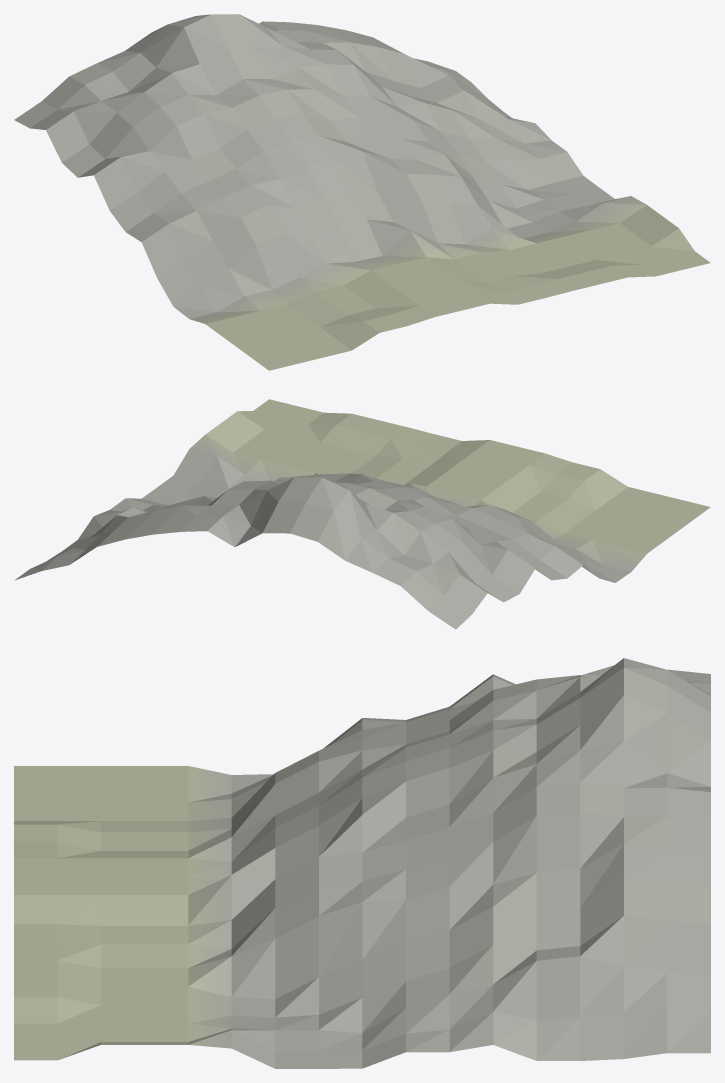
The picture shows the model from 3 angles, top to bottom: view 1: azimuth 30°, elevation 25°; view 2: azimuth 150°, elevation 25°; view 3: azimuth 270°, elevation 25°; orthographic projection. The views are drawn at different scales.
Bounding box in the file's own units: 32 × 11.19 × 32.
